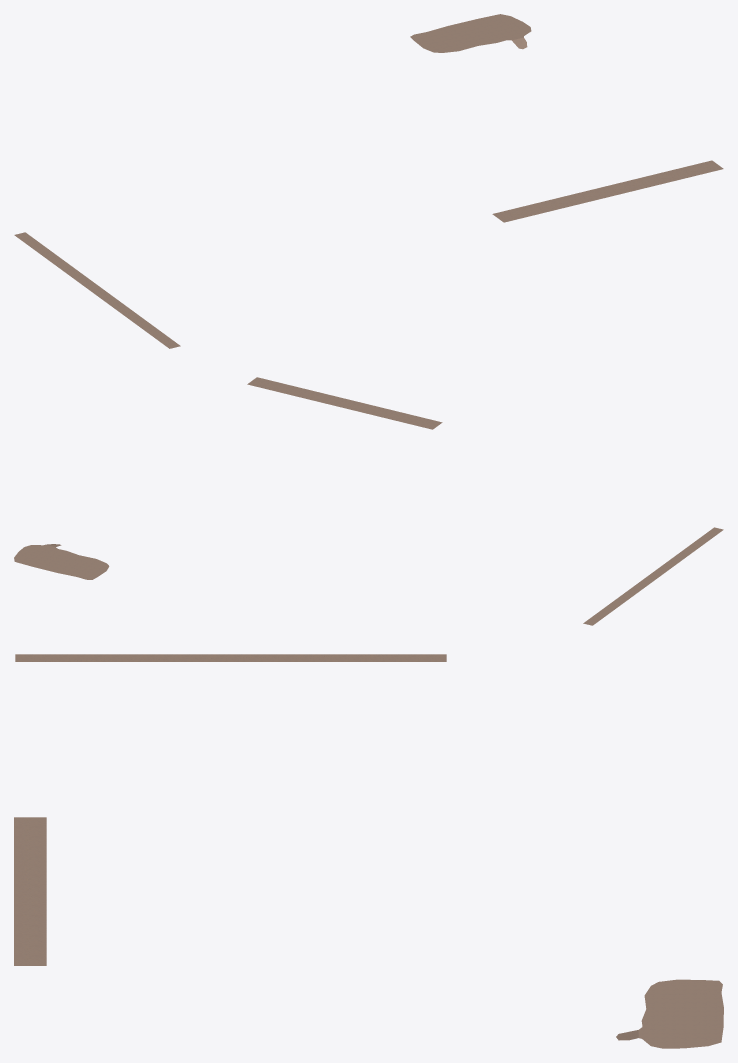
Rendered from kd_stage_135ded_4_130_bounded.glb.
3 views of the same model, one above another, from view 1: azimuth 30°, elevation 25°; view 2: azimuth 150°, elevation 25°; view 3: azimuth 270°, elevation 25° (orthographic). The views are drawn at different scales.
Parts seen in each view (by area): view 1: kd_stage_135ded_4_130_bounded; view 2: kd_stage_135ded_4_130_bounded; view 3: kd_stage_135ded_4_130_bounded.
Boxes of the visible parts, box(x1,y1,x2,y2) form: kd_stage_135ded_4_130_bounded: box(14, 14, 723, 348); kd_stage_135ded_4_130_bounded: box(14, 377, 723, 625); kd_stage_135ded_4_130_bounded: box(14, 654, 723, 1048).
Size of the model in its own units: 13.9 by 1.01 by 10.37.
1 material, 1 textured.
